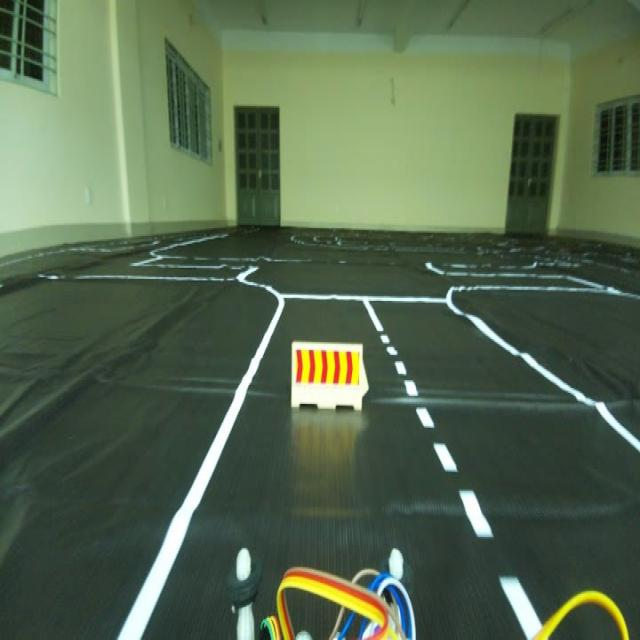roadblock: (282, 322, 378, 433)
